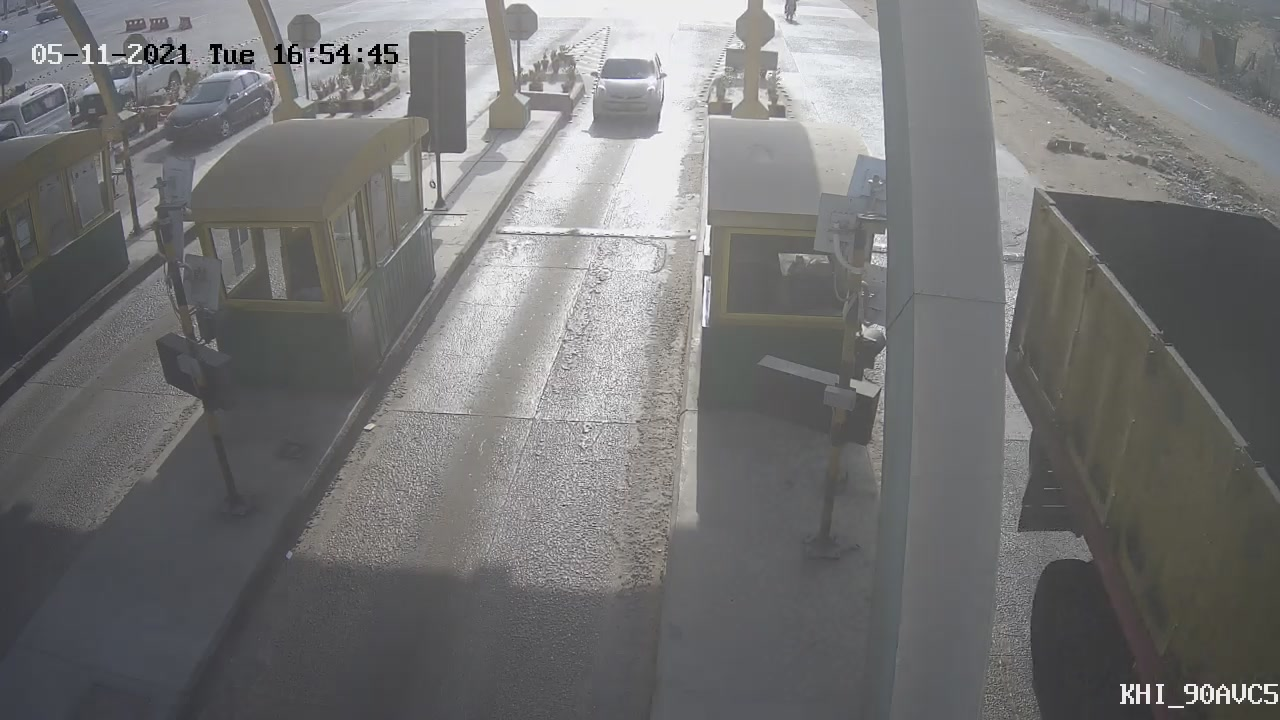F1: (573, 36, 686, 144)
